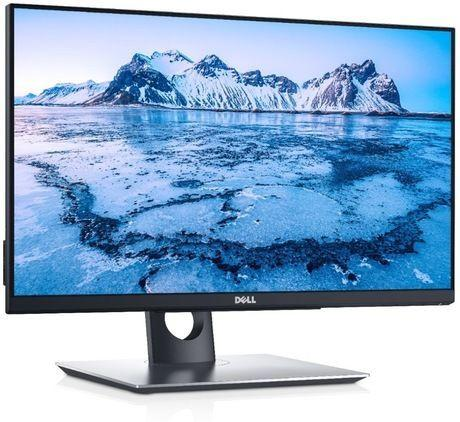dell-monitor-D1918H: (1, 25, 457, 395)
